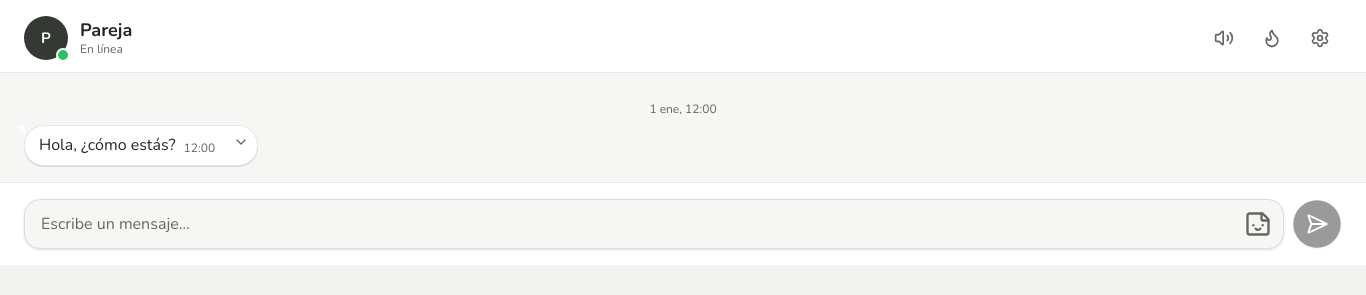
Scenario: permisos de borrado en el cliente (el servidor es la autoridad) › el admin ve controles de borrado por mensaje y vaciado
The width and height of the screenshot is (1366, 295).
# WhatsApp Web/móvil: las acciones viven en el menú de la burbuja.
Click the button named "opciones del mensaje". click: (241, 142)
box: left=229, top=130, right=253, bottom=154
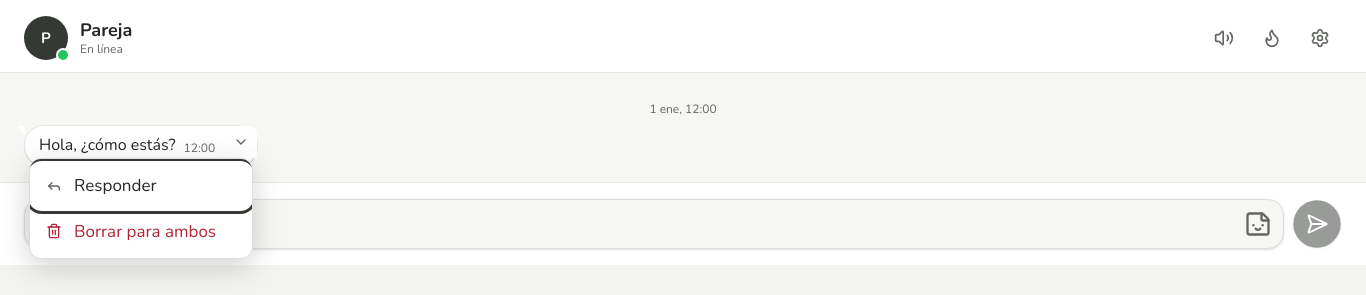
Check: the button named "vaciar conversación" is shown, box left=1250, top=16, right=1294, bottom=60
Check: the button with aria-label "borrar mensaje" is shown, box left=30, top=208, right=252, bottom=254
